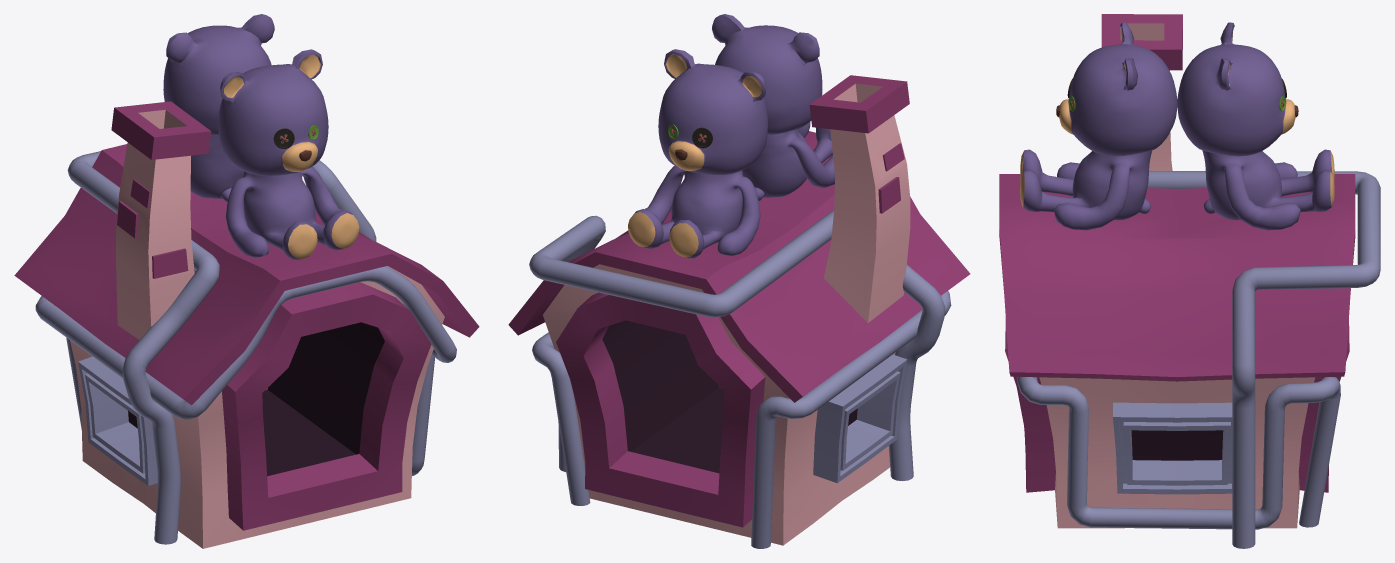
File: Teddybärenfabrik.fbx
3 renders of one model, left to right at view 1: azimuth 30°, elevation 25°; view 2: azimuth 150°, elevation 25°; view 3: azimuth 270°, elevation 25°, orthographic.
Parts seen in each view (by area): view 1: Cube; view 2: Cube; view 3: Cube.
Part boxes in pixels (box(x1,y1,x2,y2)): Cube: box(14, 14, 479, 548); Cube: box(508, 14, 970, 548); Cube: box(999, 14, 1380, 548).
Size of the model in its own units: 173 by 223 by 176.
